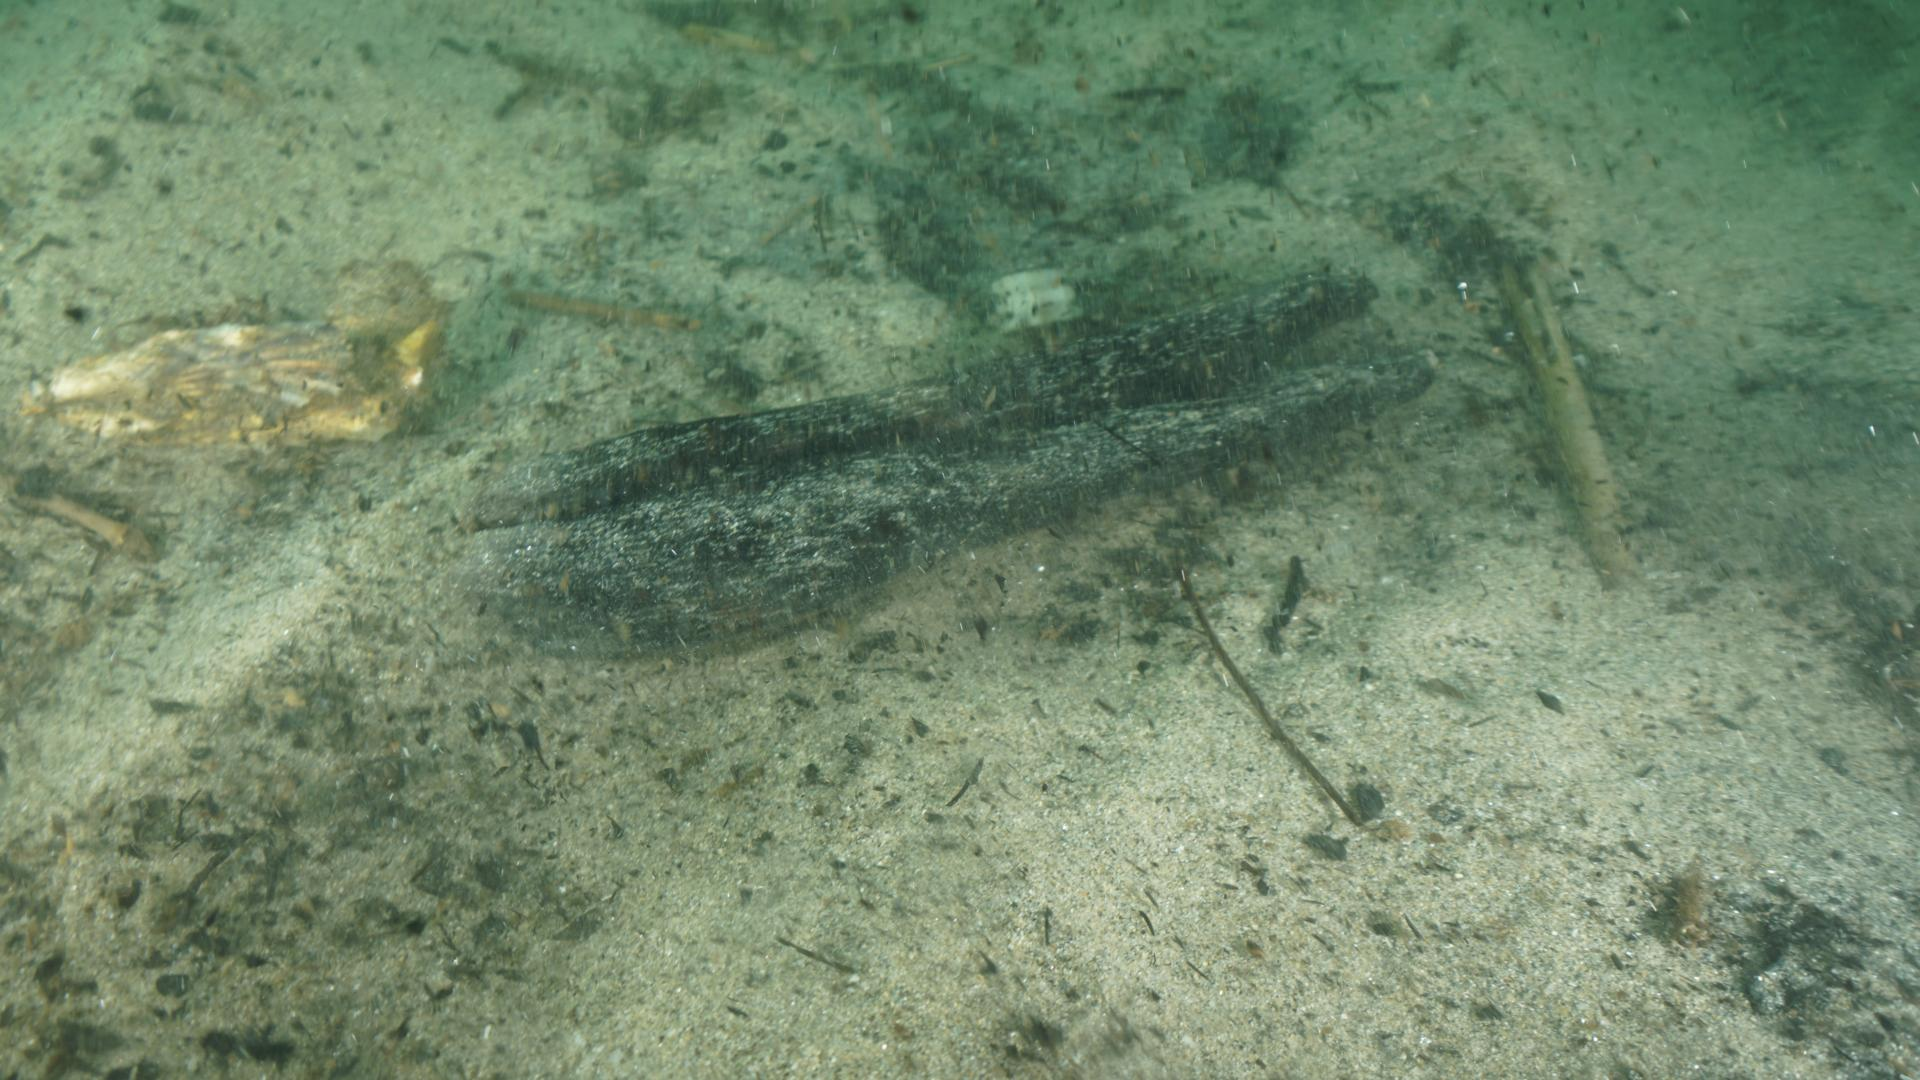wood: (459, 266, 1443, 658)
